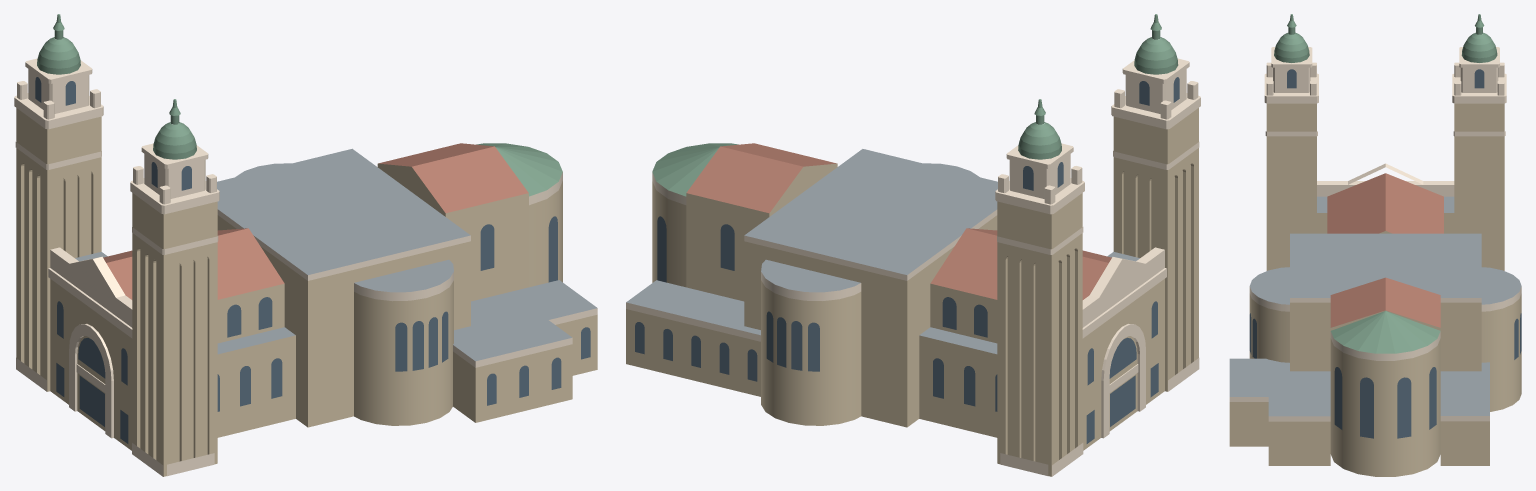
Rendered from sea-st-james-cathedral.glb.
3 renders of one model, left to right at view 1: azimuth 30°, elevation 25°; view 2: azimuth 150°, elevation 25°; view 3: azimuth 270°, elevation 25°, orthographic. The views are drawn at different scales.
Visible parts, largest first — view 1: St. James Cathedral; view 2: St. James Cathedral; view 3: St. James Cathedral.
Part boxes in pixels (left/top/right/bottom): St. James Cathedral: left=14, top=14, right=597, bottom=476; St. James Cathedral: left=626, top=14, right=1200, bottom=476; St. James Cathedral: left=1229, top=14, right=1521, bottom=476.
Size of the model in its own units: 67.07 by 49.6 by 45.15.
